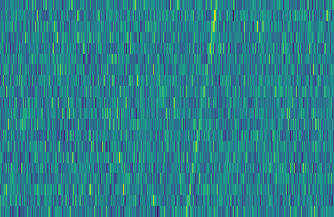signal: (182, 0, 223, 217)
